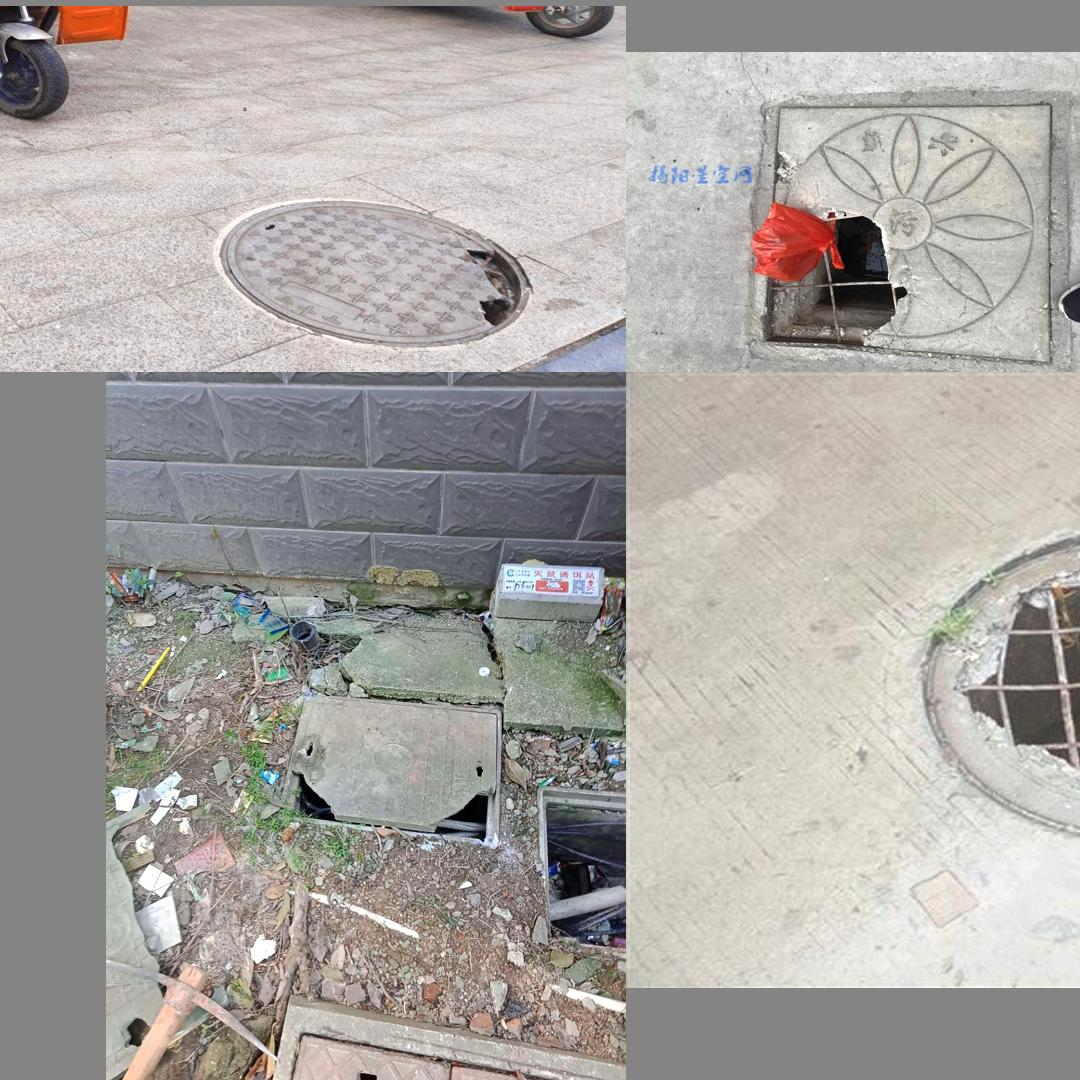broke: (718, 81, 1076, 372), (897, 516, 1080, 853), (227, 201, 535, 340), (274, 692, 503, 849)
